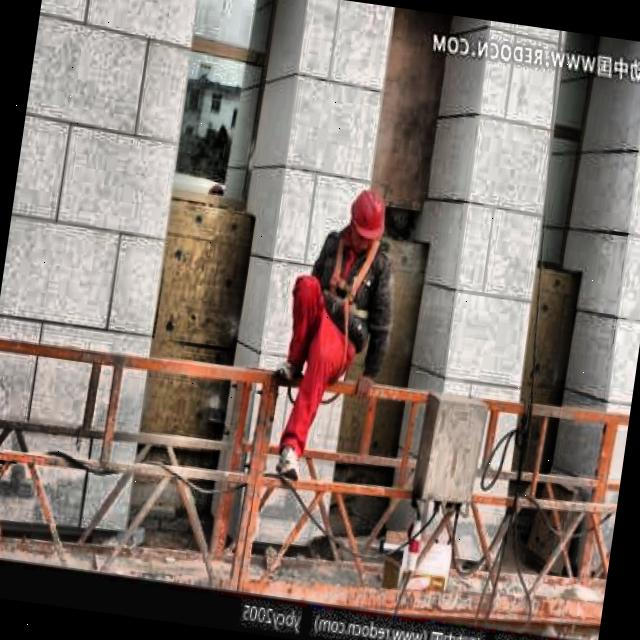helmet: (337, 179, 392, 269)
